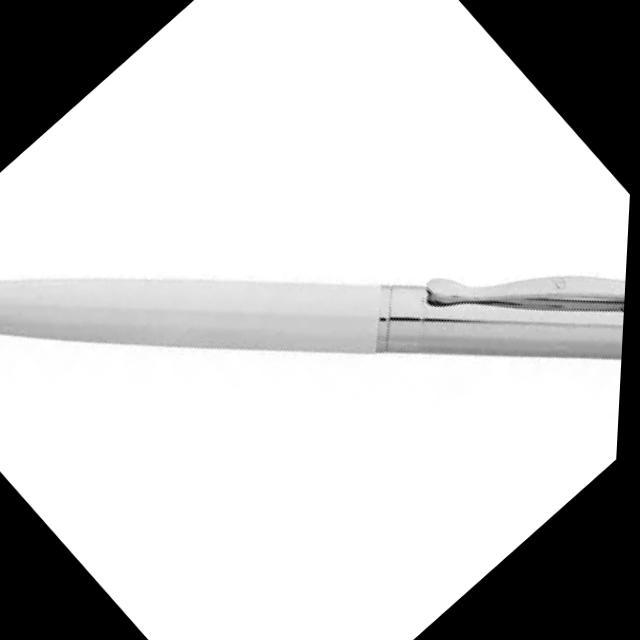pencil: (6, 252, 628, 414)
